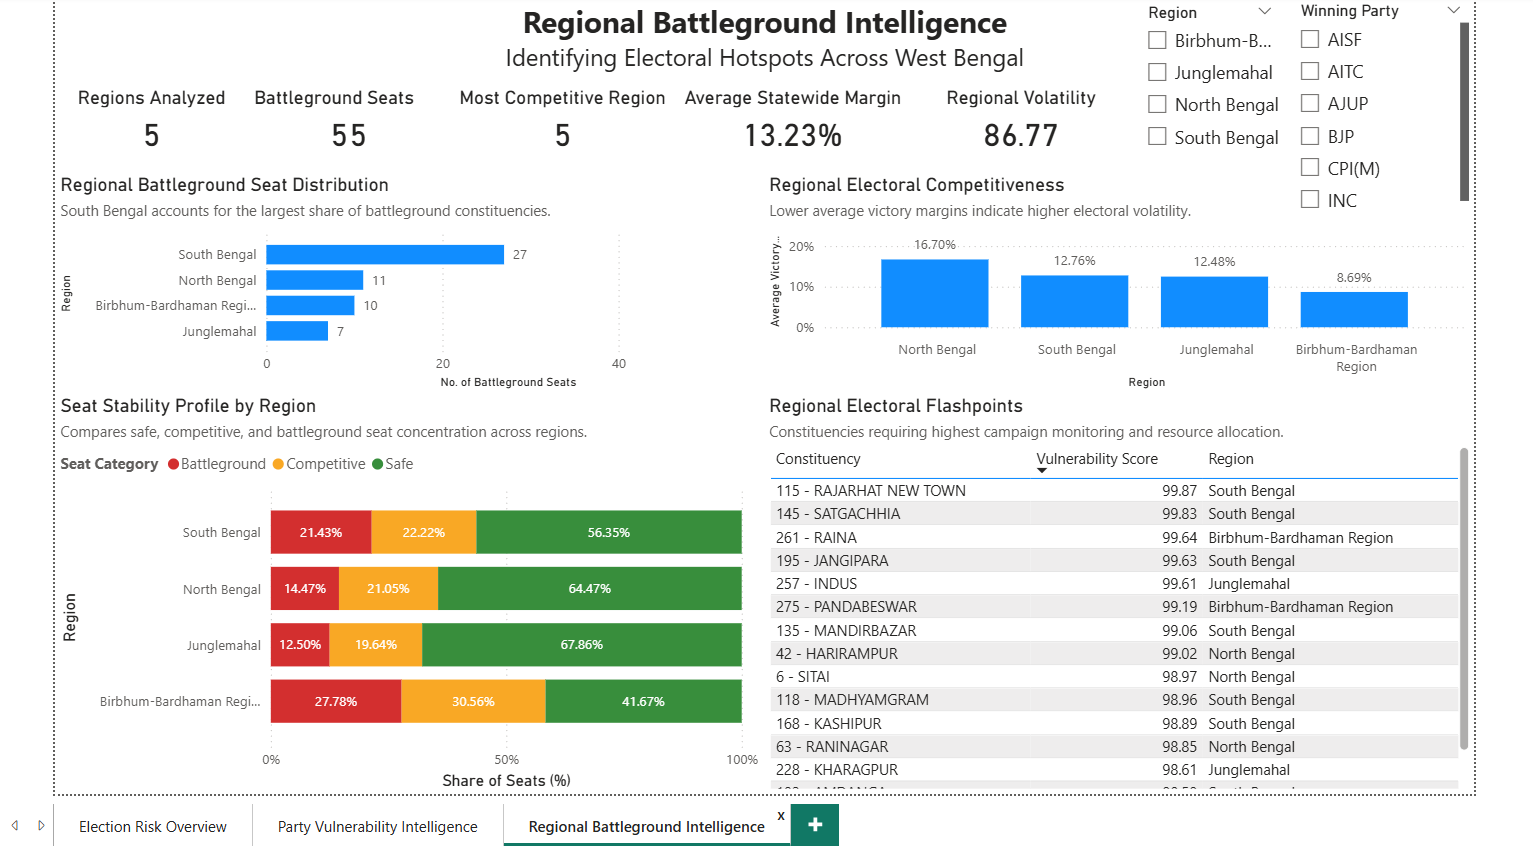

What the dashboard file says about the page in this screenshot:
{"tool":"powerbi","page":{"name":"Regional Battleground Intelligence","canvas":[1280,720],"ordinal":2},"visuals":[{"type":"textbox","box":[0,0,1280,80.9],"z":0},{"type":"card","title":"Regions Analyzed","fields":{"Values":["Count(Election_Risk_Model.Region)"]},"box":[0,80.9,174.2,65.9],"z":1000},{"type":"card","title":"Battleground Seats","fields":{"Values":["Count(Election_Risk_Model.Constituency)"]},"box":[174.2,80.9,180.4,65.9],"z":2000},{"type":"card","title":"Most Competitive Region","fields":{"Values":["Count(Election_Risk_Model.Region)"]},"box":[354.5,80.9,205.3,65.9],"z":3000},{"type":"card","title":"Average Statewide Margin","fields":{"Values":["Avg(Election_Risk_Model.Victory Margin %)"]},"box":[559.8,80.9,210.2,65.9],"z":4000},{"type":"clusteredBarChart","title":"Regional Battleground Seat Distribution","fields":{"Category":["Election_Risk_Model.Region"],"Y":["CountNonNull(Election_Risk_Model.Constituency)"]},"box":[0,160.5,639.4,199],"z":5000},{"type":"clusteredColumnChart","title":"Regional Electoral Competitiveness","fields":{"Category":["Election_Risk_Model.Region"],"Y":["Avg(Election_Risk_Model.Victory Margin %)"]},"box":[639.4,160.5,640.6,199],"z":6000},{"type":"hundredPercentStackedBarChart","title":"Seat Stability Profile by Region","fields":{"Category":["Election_Risk_Model.Region"],"Y":["CountNonNull(Election_Risk_Model.Constituency)"],"Series":["Election_Risk_Model.Seat Category"]},"box":[0,359.5,639.4,360.7],"z":7000},{"type":"tableEx","title":"Regional Electoral Flashpoints","fields":{"Values":["Election_Risk_Model.Constituency","Max(Election_Risk_Model.Political Vulnerability Score)","Election_Risk_Model.Region"]},"box":[639,360,641,360],"z":8000},{"type":"slicer","fields":{"Values":["Election_Risk_Model.Region"]},"box":[972.9,1.4,137.2,159.2],"z":9000},{"type":"slicer","fields":{"Values":["Election_Risk_Model.Winning Party"]},"box":[1110.1,0,170.2,201.7],"z":10000},{"type":"card","title":"Regional Volatility","fields":{"Values":["Election_Risk_Model.Regional Volatility"]},"box":[770,80.9,202.8,65.9],"z":10001}]}

Visuals, with their boxes on the page's 1280x720 design canvas (x1, y1, x2, y2). These are canvas units, not pixel positions in the 1533x846 screenshot, which may show the page scaled, cropped or inside an application window:
textbox: 0 0 1280 81
"Regions Analyzed" card: 0 81 174 147
"Battleground Seats" card: 174 81 355 147
"Most Competitive Region" card: 354 81 560 147
"Average Statewide Margin" card: 560 81 770 147
"Regional Battleground Seat Distribution" clusteredBarChart: 0 160 639 360
"Regional Electoral Competitiveness" clusteredColumnChart: 639 160 1280 360
"Seat Stability Profile by Region" hundredPercentStackedBarChart: 0 360 639 720
"Regional Electoral Flashpoints" tableEx: 639 360 1280 720
slicer - Election_Risk_Model.Region: 973 1 1110 161
slicer - Election_Risk_Model.Winning Party: 1110 0 1280 202
"Regional Volatility" card: 770 81 973 147
